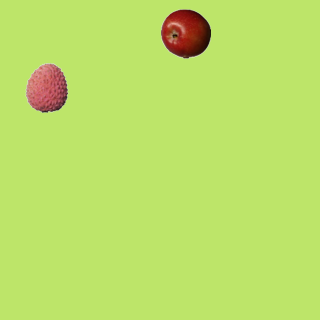Apple Braeburn: (160, 8, 210, 58)
Lychee: (21, 62, 71, 112)
